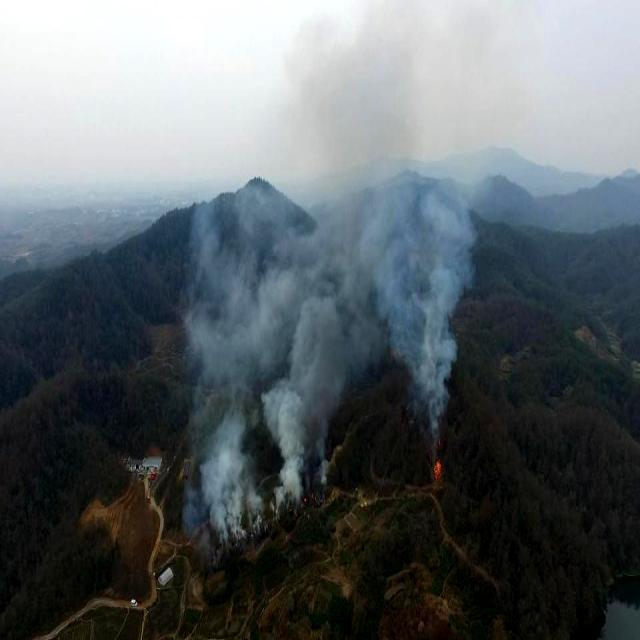Smoke: (176, 171, 357, 556), (332, 122, 489, 434)
